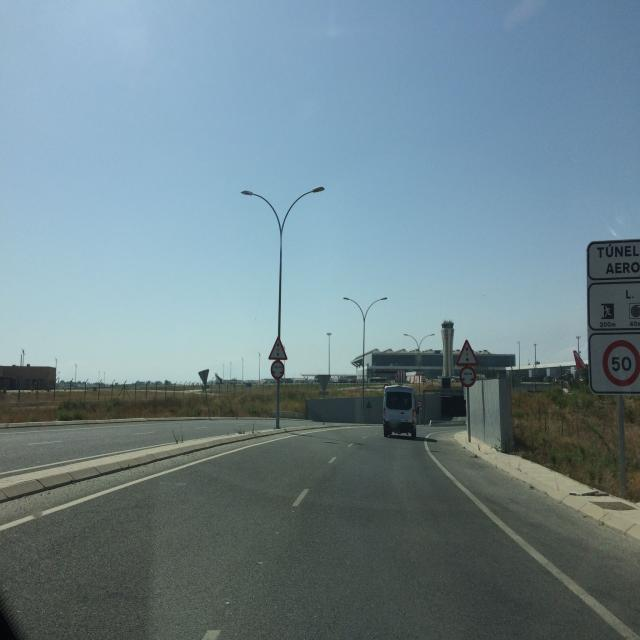car: (382, 383, 417, 439)
